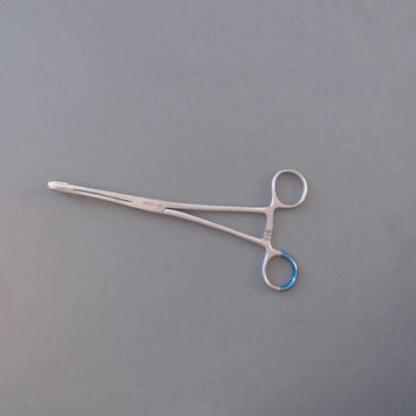Sponge Forceps: (41, 161, 312, 304)
